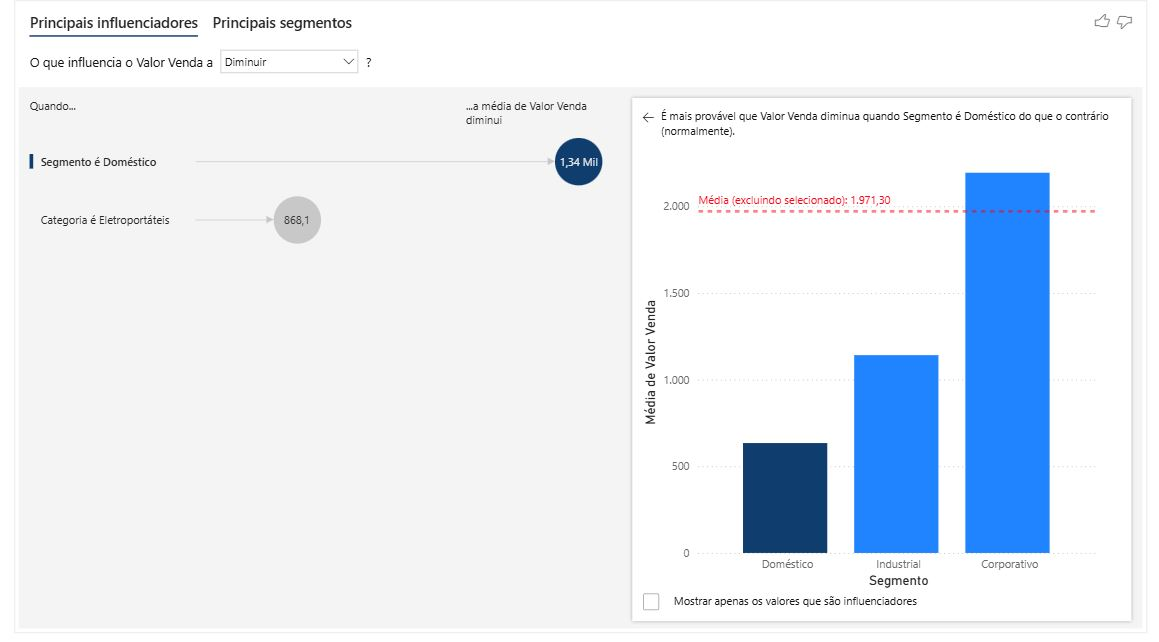

This screenshot's page, from the dashboard's own definition file:
{"tool":"powerbi","page":{"name":"Principais Influenciadores de Venda","canvas":[1280,720],"ordinal":2},"visuals":[{"type":"keyDriversVisual","fields":{"Target":["Vendas.ValorVenda"],"ExplainBy":["Vendas.Segmento","Vendas.Categoria"]},"box":[17.8,12.3,1243.2,694.3],"z":0}]}

Visuals, with their boxes in screenshot pixels (x1, y1, x2, y2), scaled from the page's 1280x720 canvas onto the 1159x642 screenshot:
keyDriversVisual - Vendas.ValorVenda x Vendas.Segmento: (left=16, top=11, right=1142, bottom=630)
